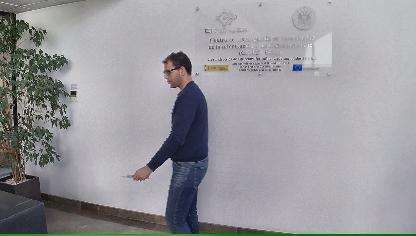knife: (118, 170, 150, 181)
